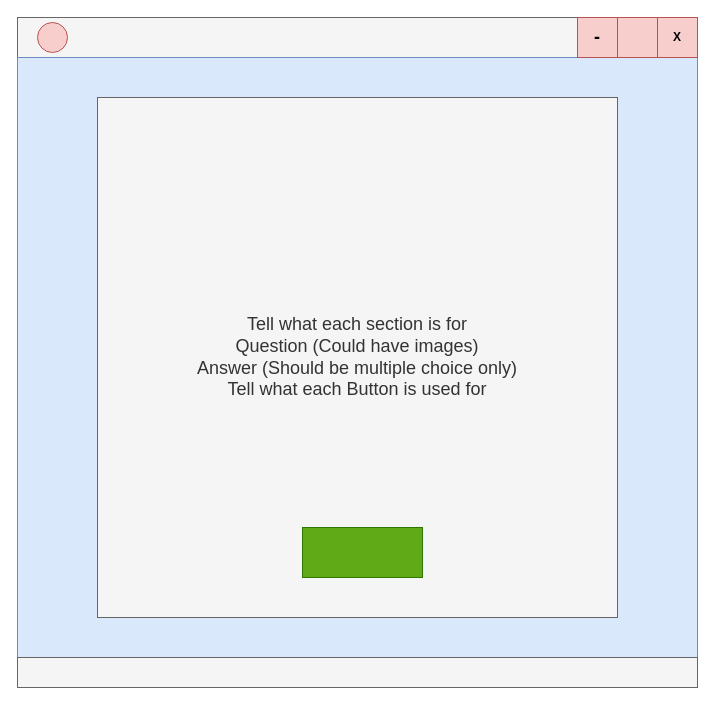
The diagram is 715 pixels wide and 705 high, and some of its shapes have lost their labels. Here are the shapes that lost their labels. From the top down, the box of each, then its label:
(16, 16, 698, 58): App_Name_Here
(302, 526, 422, 578): Back to Exam
